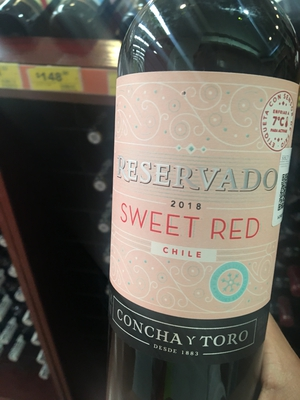reservado sweet red: (92, 17, 298, 400)
